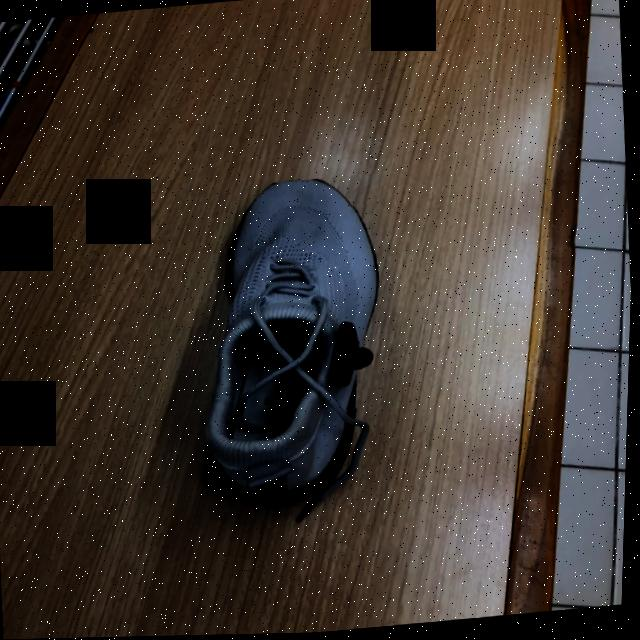shoe: (210, 181, 381, 509)
